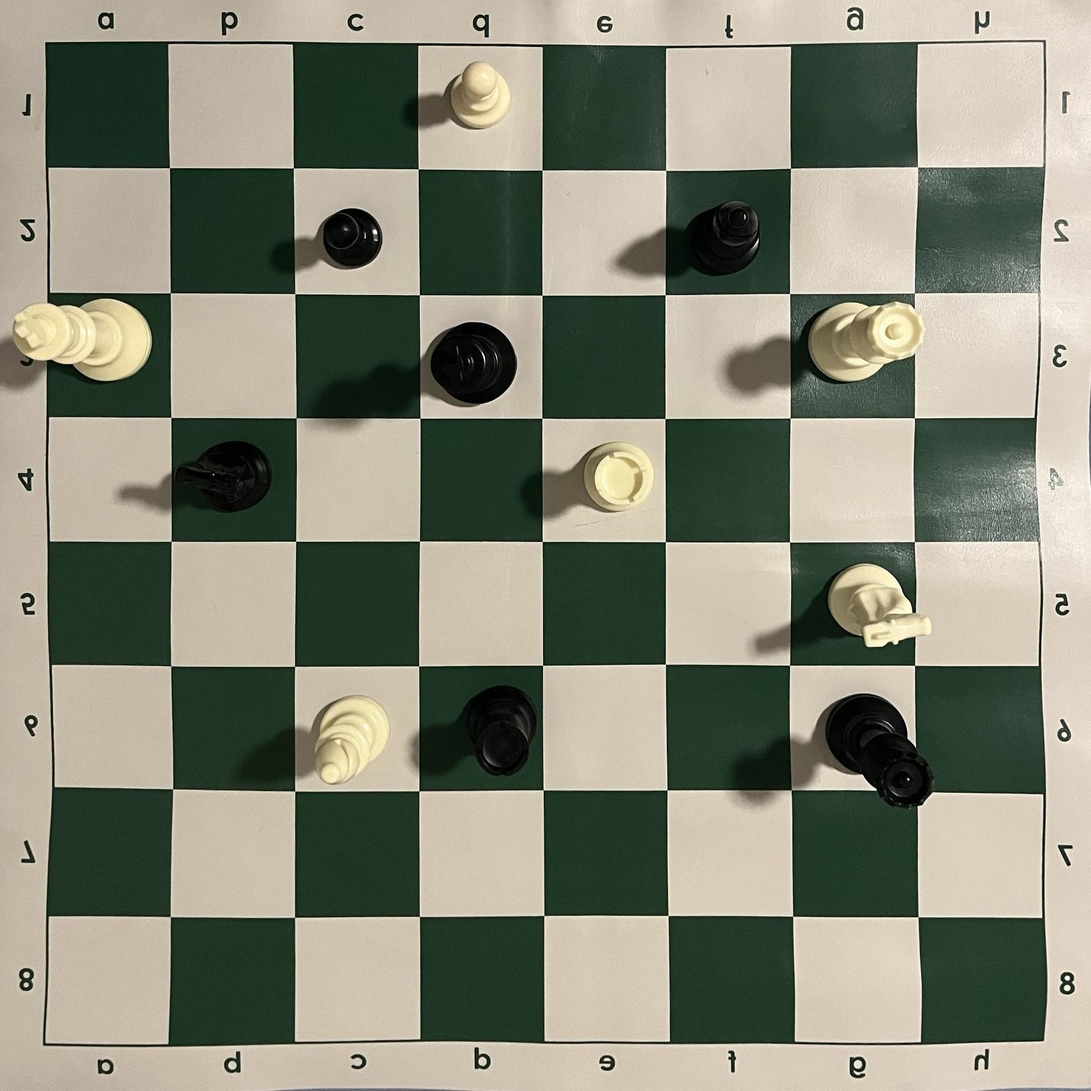black_bishop: (684, 201, 762, 276)
black_king: (431, 321, 518, 405)
black_knight: (174, 441, 273, 512)
black_pawn: (323, 208, 383, 269)
black_queen: (825, 691, 936, 811)
black_rook: (466, 684, 539, 778)
white_bishop: (315, 695, 391, 786)
white_king: (12, 299, 152, 383)
white_knight: (827, 564, 932, 649)
white_pawn: (449, 60, 512, 129)
white_queen: (806, 300, 924, 384)
white_rook: (583, 441, 656, 513)
